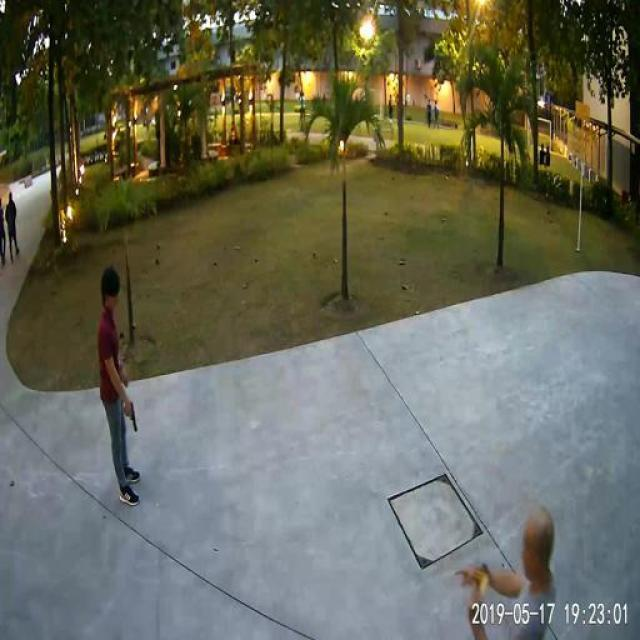Gun: (114, 392, 148, 436)
